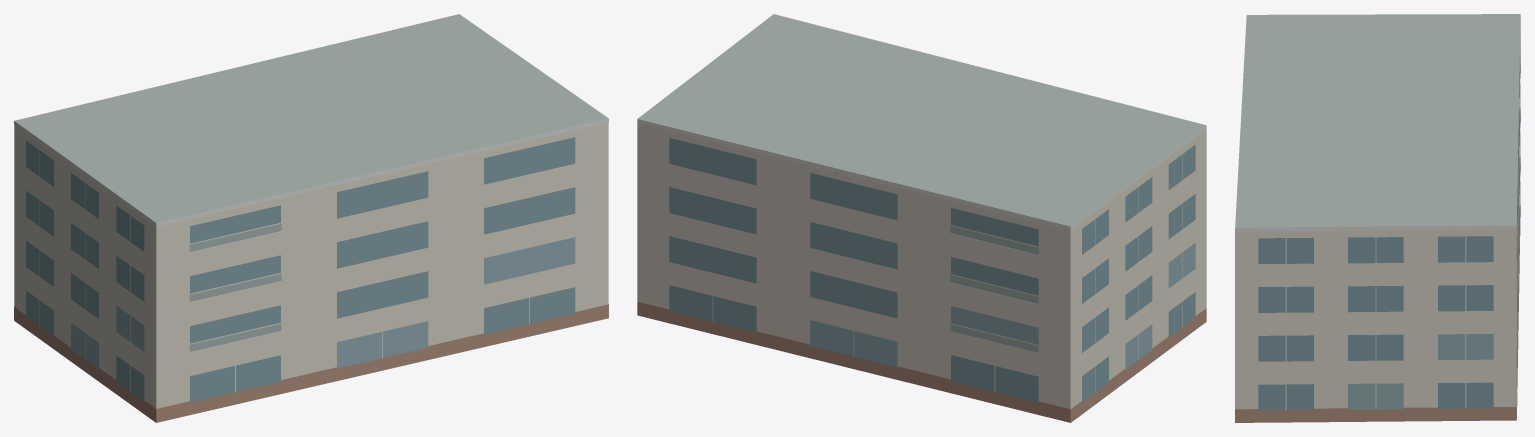
The model's file is survey-upis-32471946.glb.
The picture shows the model from 3 angles, left to right: view 1: azimuth 30°, elevation 25°; view 2: azimuth 150°, elevation 25°; view 3: azimuth 270°, elevation 25°; orthographic projection. The views are drawn at different scales.
Parts seen in each view (by area): view 1: survey-upis-32471946.tmp; view 2: survey-upis-32471946.tmp; view 3: survey-upis-32471946.tmp.
Boxes of the visible parts, x1,y1,x2,y2 form: survey-upis-32471946.tmp: (14,14,608,422); survey-upis-32471946.tmp: (637,14,1206,422); survey-upis-32471946.tmp: (1235,14,1520,422).
Bounding box in the file's own units: 28.65 × 12.2 × 16.19.
